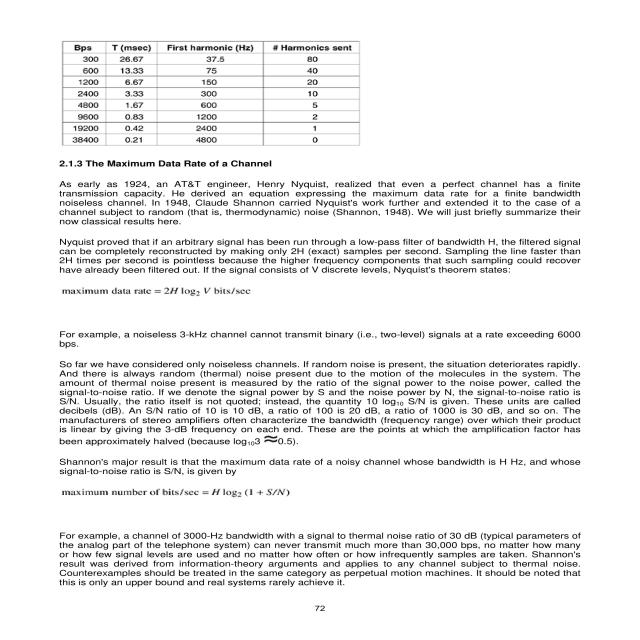diagram: (35, 37, 395, 152)
